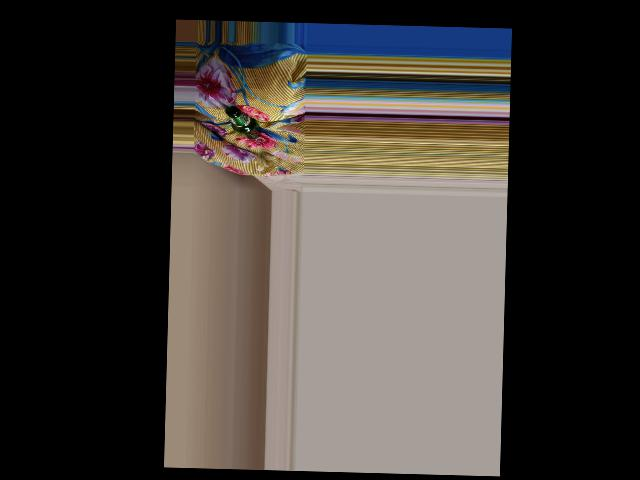beer: (224, 105, 261, 139)
